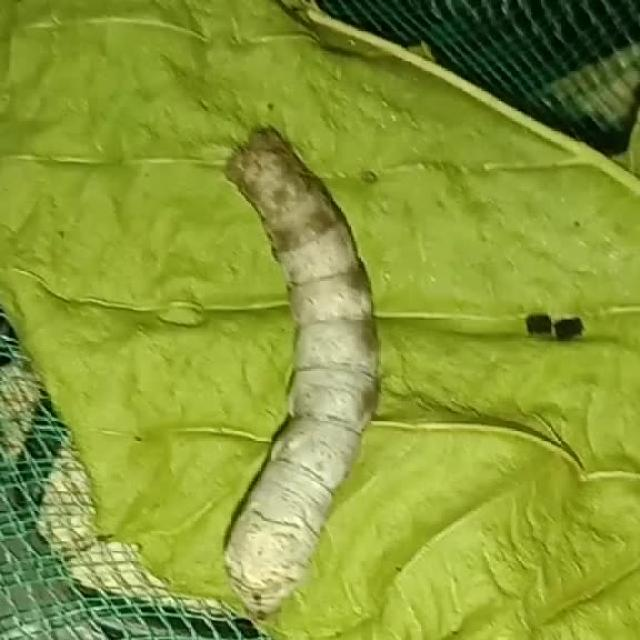Grasserie: (200, 121, 391, 625)
